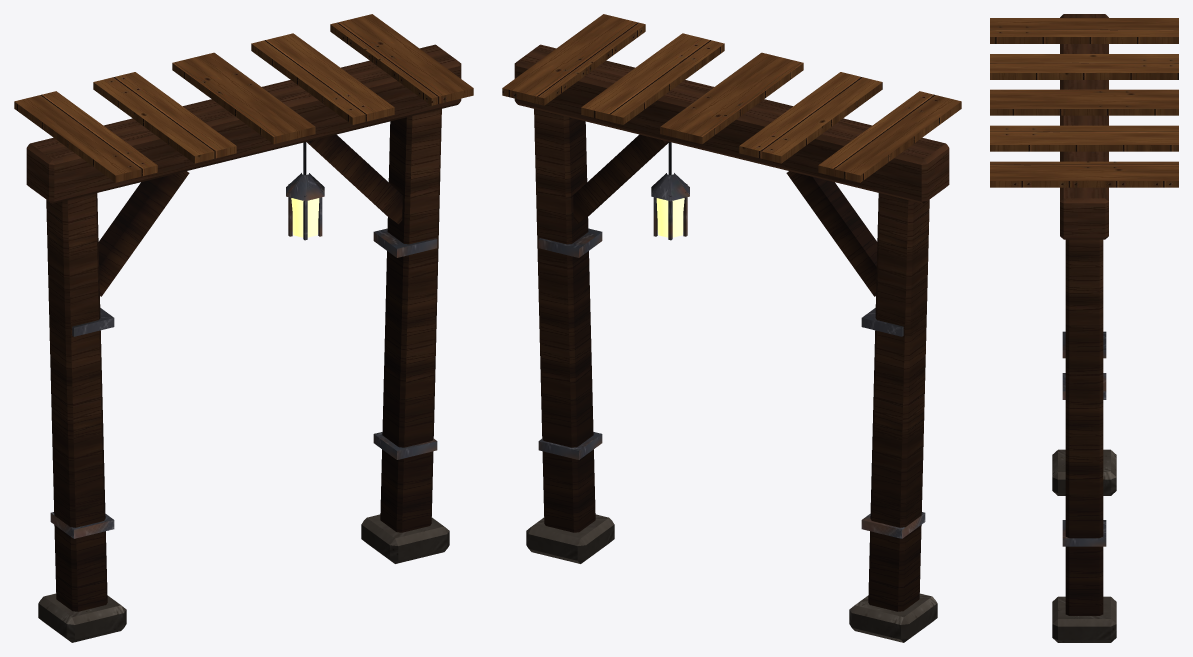
Rendered from nidavellir_support_beams.glb.
3 renders of one model, left to right at view 1: azimuth 30°, elevation 25°; view 2: azimuth 150°, elevation 25°; view 3: azimuth 270°, elevation 25°, orthographic. The views are drawn at different scales.
Visible parts, largest first — view 1: nidavellir_support_beams; view 2: nidavellir_support_beams; view 3: nidavellir_support_beams.
Boxes of the visible parts, x1,y1,x2,y2 form: nidavellir_support_beams: (14,14,473,642); nidavellir_support_beams: (502,14,961,642); nidavellir_support_beams: (990,14,1178,642).
Bounding box in the file's own units: 2.35 × 2.68 × 1.
Materials: 5 (4 with a texture image).
